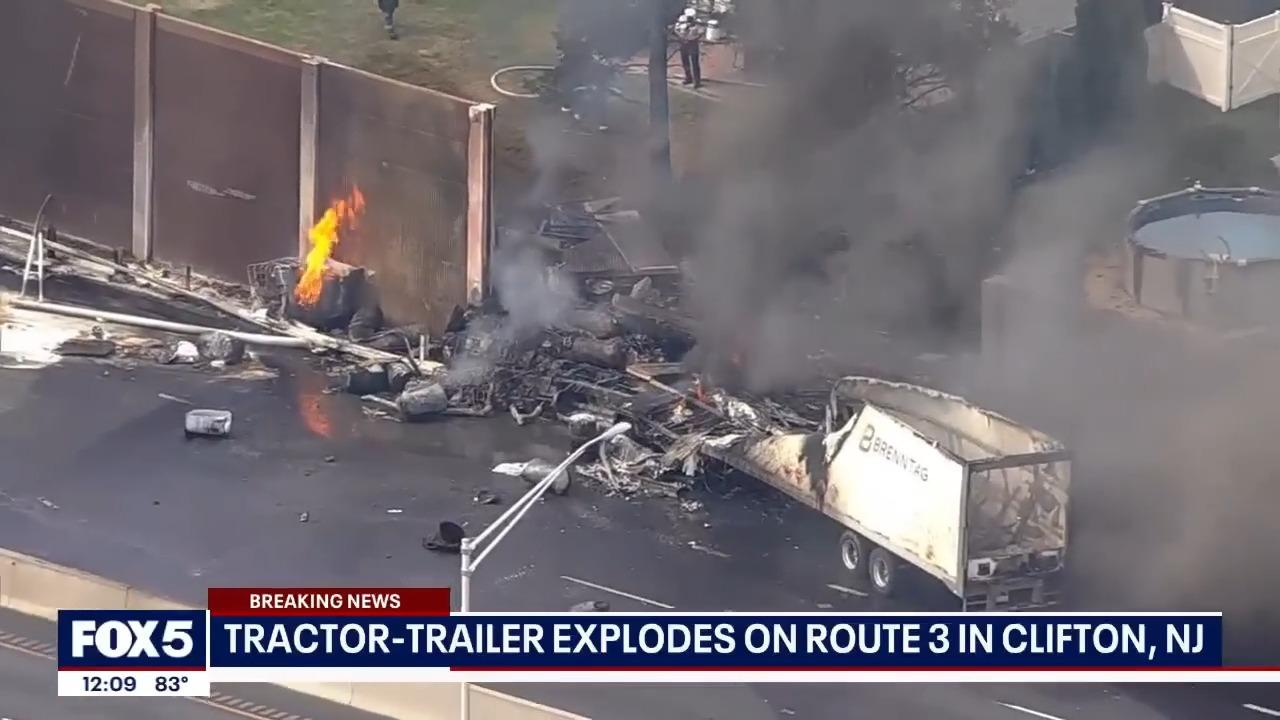fire: (283, 172, 372, 308)
